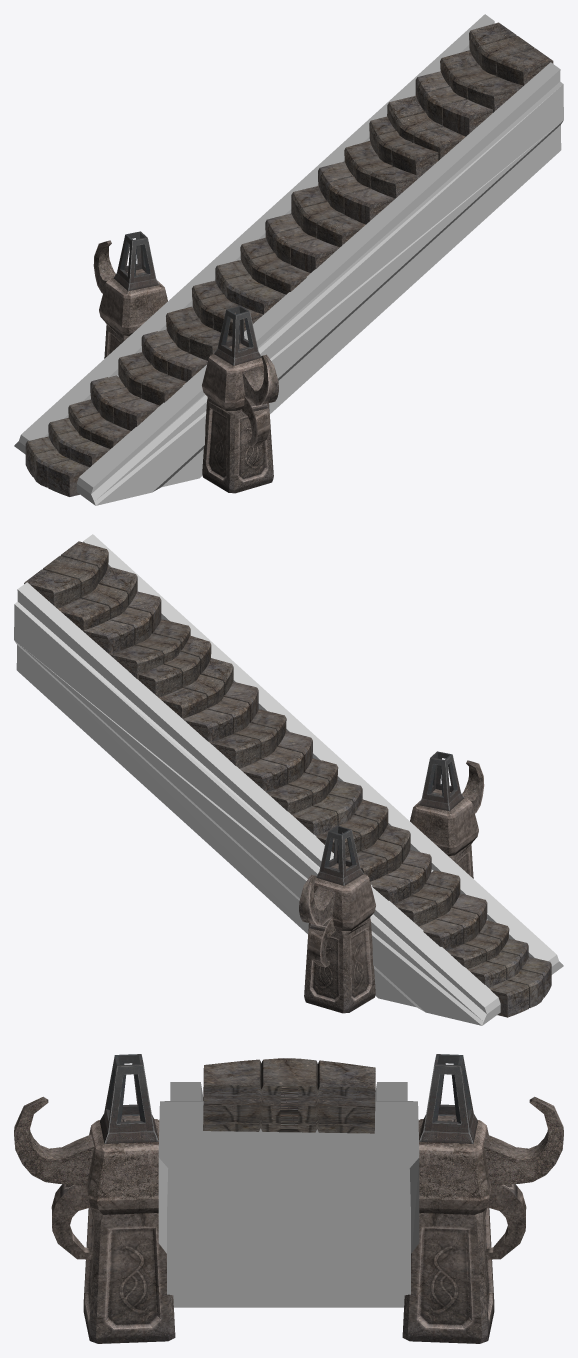
The model's file is StairsV4.FBX.
3 renders of one model, top to bottom at view 1: azimuth 30°, elevation 25°; view 2: azimuth 150°, elevation 25°; view 3: azimuth 270°, elevation 25°, orthographic. The views are drawn at different scales.
Parts seen in each view (by area): view 1: Object003; view 2: Object003; view 3: Object003.
Part boxes in pixels (<box>): Object003: <box>14,14,563,505</box>; Object003: <box>14,534,563,1025</box>; Object003: <box>14,1054,563,1343</box>.
Bounding box in the file's own units: 301 × 191 × 187.
